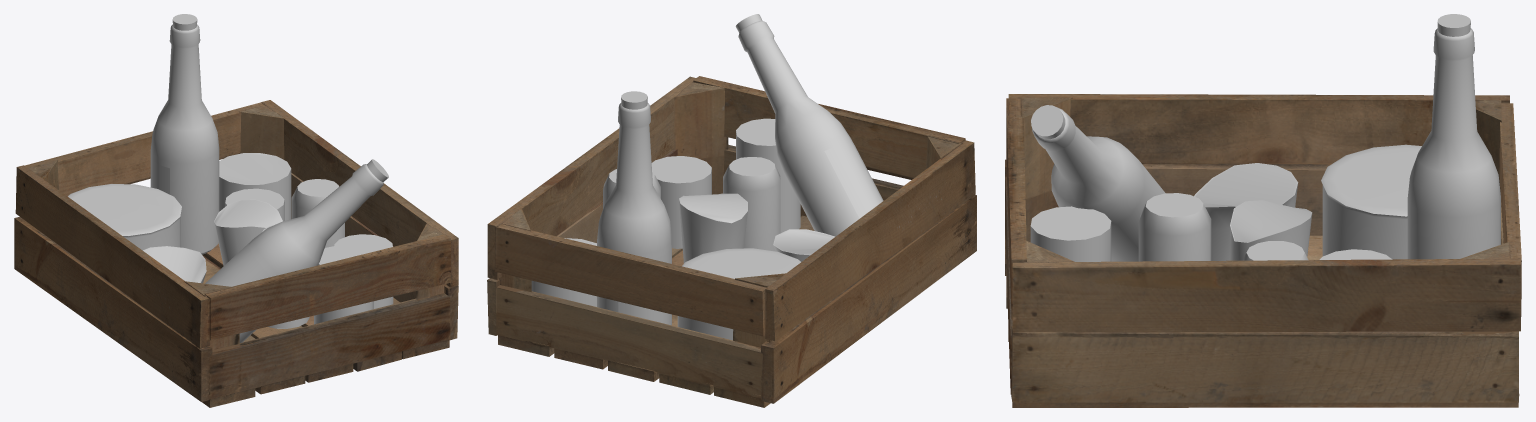
The model's file is SM_Wooden_Container_AB.fbx.
The picture shows the model from 3 angles, left to right: view 1: azimuth 30°, elevation 25°; view 2: azimuth 150°, elevation 25°; view 3: azimuth 270°, elevation 25°; orthographic projection. The views are drawn at different scales.
Visible parts, largest first — view 1: SM_Wooden_Container.001, Cylinder.001, Cylinder.042, model_4.066, model_4.061, model_4.069, model_4.062, model_4.063, model_4.058, model_4.068, model_4.067; view 2: SM_Wooden_Container.001, Cylinder.042, Cylinder.001, model_4.069, model_4.060, model_4.066, model_4.068, model_4.058, model_4.062, model_4.061; view 3: SM_Wooden_Container.001, Cylinder.001, Cylinder.042, model_4.066, model_4.060, model_4.062, model_4.058, model_4.069, model_4.063, model_4.067.
Boxes of the visible parts, box(x1,y1,x2,y2) form: SM_Wooden_Container.001: box(14, 100, 458, 407); Cylinder.001: box(150, 14, 219, 254); Cylinder.042: box(205, 159, 388, 342); model_4.066: box(68, 184, 181, 250); model_4.061: box(219, 153, 291, 220); model_4.069: box(214, 199, 282, 265); model_4.062: box(143, 246, 206, 283); model_4.063: box(291, 179, 344, 247); model_4.058: box(314, 245, 373, 324); model_4.068: box(334, 234, 393, 308); model_4.067: box(225, 188, 284, 221); SM_Wooden_Container.001: box(487, 76, 976, 407); Cylinder.042: box(735, 14, 883, 236); Cylinder.001: box(597, 91, 671, 325); model_4.069: box(679, 193, 747, 262); model_4.060: box(723, 157, 780, 251); model_4.066: box(677, 248, 800, 340); model_4.068: box(651, 156, 711, 248); model_4.058: box(736, 118, 800, 232); model_4.062: box(773, 229, 834, 261); model_4.061: box(531, 238, 596, 306); SM_Wooden_Container.001: box(1005, 94, 1521, 407); Cylinder.001: box(1407, 14, 1500, 259); Cylinder.042: box(1031, 105, 1165, 261); model_4.066: box(1321, 144, 1421, 259); model_4.060: box(1138, 193, 1211, 261); model_4.062: box(1194, 163, 1298, 260); model_4.058: box(1030, 206, 1111, 261); model_4.069: box(1230, 200, 1312, 260); model_4.063: box(1243, 241, 1308, 260); model_4.067: box(1319, 249, 1392, 259).
Size of the model in its own units: 41.09 by 35.48 by 51.88.
